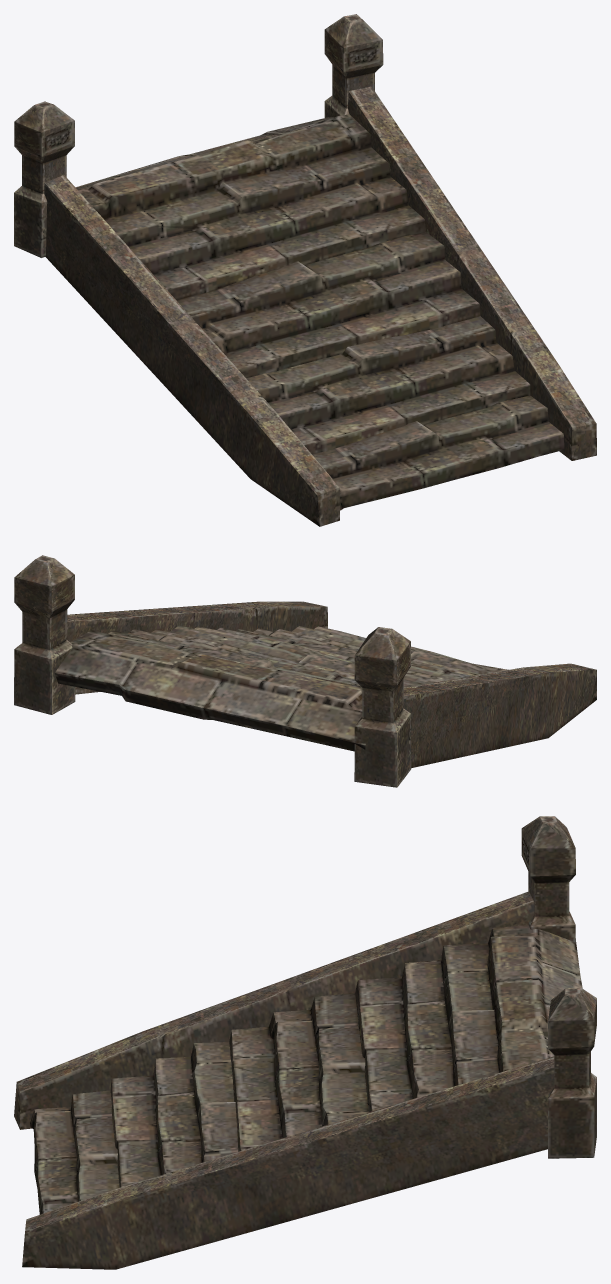
File: miniboss_06.fbx
The picture shows the model from 3 angles, top to bottom: view 1: azimuth 30°, elevation 25°; view 2: azimuth 150°, elevation 25°; view 3: azimuth 270°, elevation 25°; orthographic projection. The views are drawn at different scales.
Parts seen in each view (by area): view 1: miniboss_06; view 2: miniboss_06; view 3: miniboss_06.
Part boxes in pixels (left/top/right/bottom): miniboss_06: left=14, top=14, right=596, bottom=526; miniboss_06: left=14, top=555, right=596, bottom=787; miniboss_06: left=14, top=816, right=596, bottom=1269.
Size of the model in its own units: 26.87 by 18.11 by 33.92.
